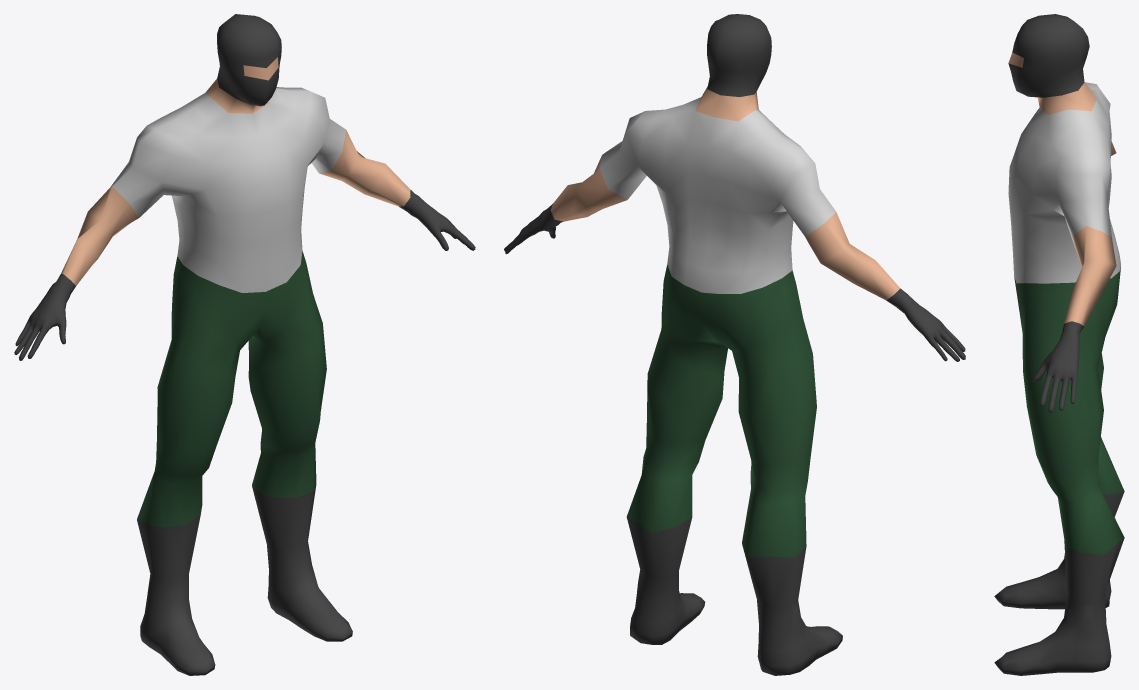
The model's file is HOMEM_FORTE_LOW_POLY.fbx.
3 renders of one model, left to right at view 1: azimuth 30°, elevation 25°; view 2: azimuth 150°, elevation 25°; view 3: azimuth 270°, elevation 25°, orthographic.
Parts seen in each view (by area): view 1: HOMEM_FORTE; view 2: HOMEM_FORTE; view 3: HOMEM_FORTE.
Part boxes in pixels (bbox=[...]): HOMEM_FORTE: bbox=[14, 14, 475, 675]; HOMEM_FORTE: bbox=[504, 14, 965, 675]; HOMEM_FORTE: bbox=[994, 14, 1124, 675].
Size of the model in its own units: 550 by 717 by 137.
